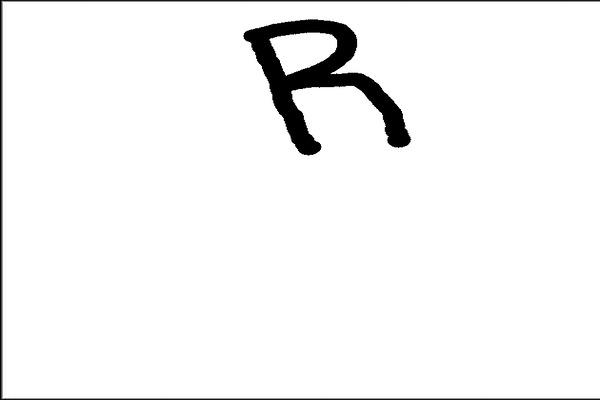R: (240, 14, 418, 161)
